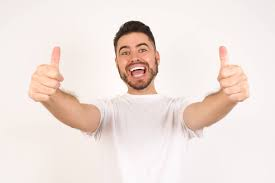ThumbsUp: (217, 44, 252, 105)
